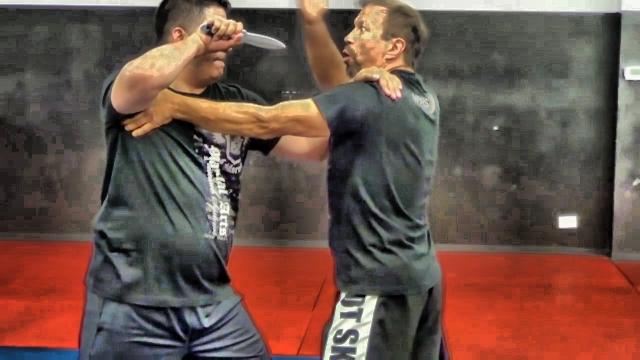knife: (195, 14, 289, 56)
